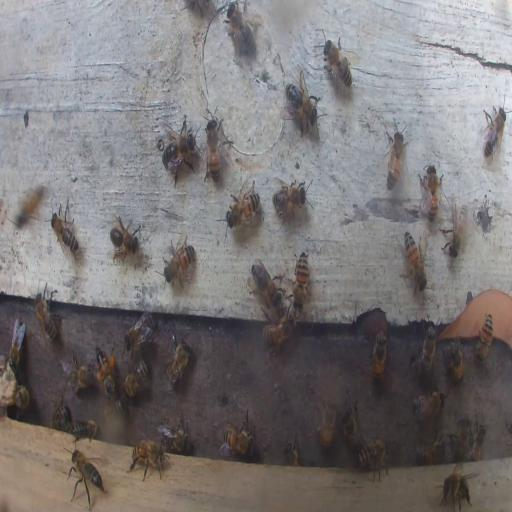nonpollenbee: (282, 70, 324, 134), (157, 122, 202, 176), (68, 448, 104, 501), (164, 233, 196, 291), (322, 33, 354, 90), (436, 464, 473, 512), (441, 199, 469, 262), (411, 320, 439, 380), (49, 201, 78, 258), (262, 306, 297, 353), (226, 4, 256, 56), (164, 329, 191, 386), (481, 105, 507, 164), (272, 178, 310, 218), (35, 288, 62, 344), (250, 262, 283, 307), (129, 439, 167, 478), (404, 231, 426, 295), (357, 435, 389, 478), (124, 310, 156, 352), (419, 164, 443, 220), (220, 420, 255, 457), (109, 216, 139, 259), (16, 185, 46, 228), (228, 187, 260, 227), (386, 126, 406, 189), (412, 386, 447, 421), (204, 116, 222, 183), (340, 402, 363, 450), (160, 421, 192, 453), (123, 358, 148, 398), (64, 357, 93, 390), (317, 400, 336, 450), (443, 341, 465, 384), (475, 314, 494, 363), (370, 331, 388, 382), (293, 251, 310, 304), (8, 317, 24, 372), (467, 422, 486, 462), (416, 440, 445, 464), (52, 400, 72, 431), (72, 419, 98, 440), (456, 418, 470, 456), (282, 438, 299, 467), (12, 385, 29, 411)
pollenbee: (96, 346, 116, 398)
